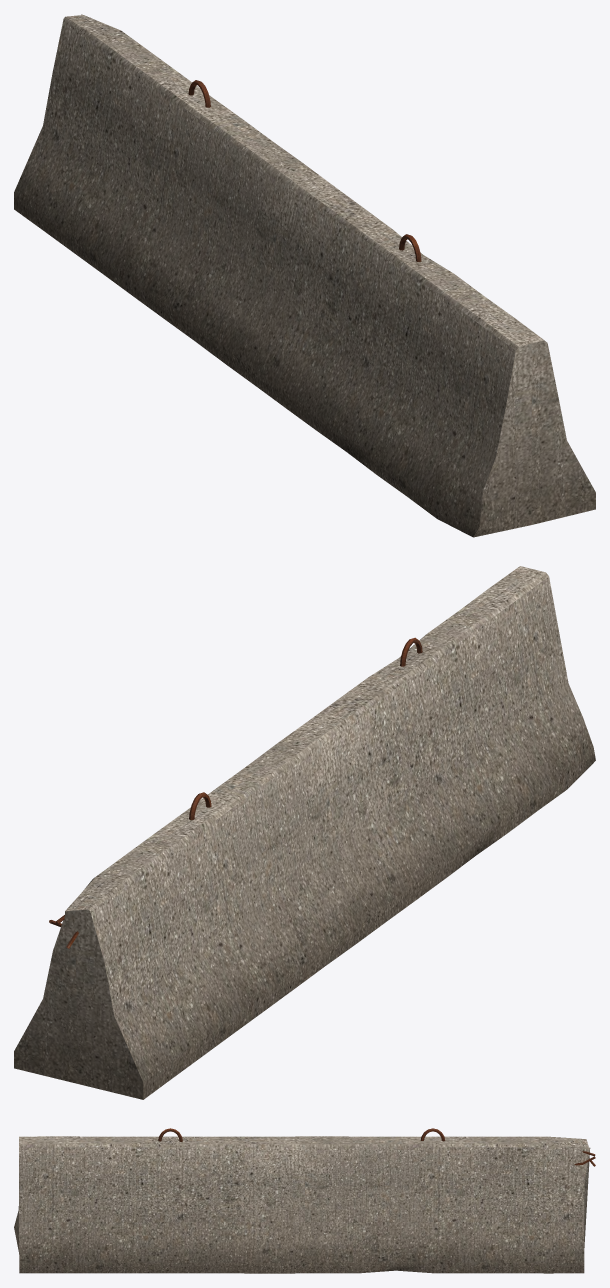
File: jersey_barrier.glb
3 renders of one model, top to bottom at view 1: azimuth 30°, elevation 25°; view 2: azimuth 150°, elevation 25°; view 3: azimuth 270°, elevation 25°, orthographic. The views are drawn at different scales.
Parts seen in each view (by area): view 1: jersey_barrier_concrete; view 2: jersey_barrier_concrete, jersey_barrier_rust_metal; view 3: jersey_barrier_concrete, jersey_barrier_rust_metal.
Part boxes in pixels (x1=…): jersey_barrier_concrete: x1=14, y1=14, x2=595, y2=537; jersey_barrier_concrete: x1=14, y1=566, x2=595, y2=1099; jersey_barrier_rust_metal: x1=49, y1=637, x2=422, y2=948; jersey_barrier_concrete: x1=14, y1=1136, x2=590, y2=1273; jersey_barrier_rust_metal: x1=158, y1=1128, x2=595, y2=1166.
Size of the model in its own units: 0.6048 by 0.8981 by 3.77.
2 materials, 2 textured.
